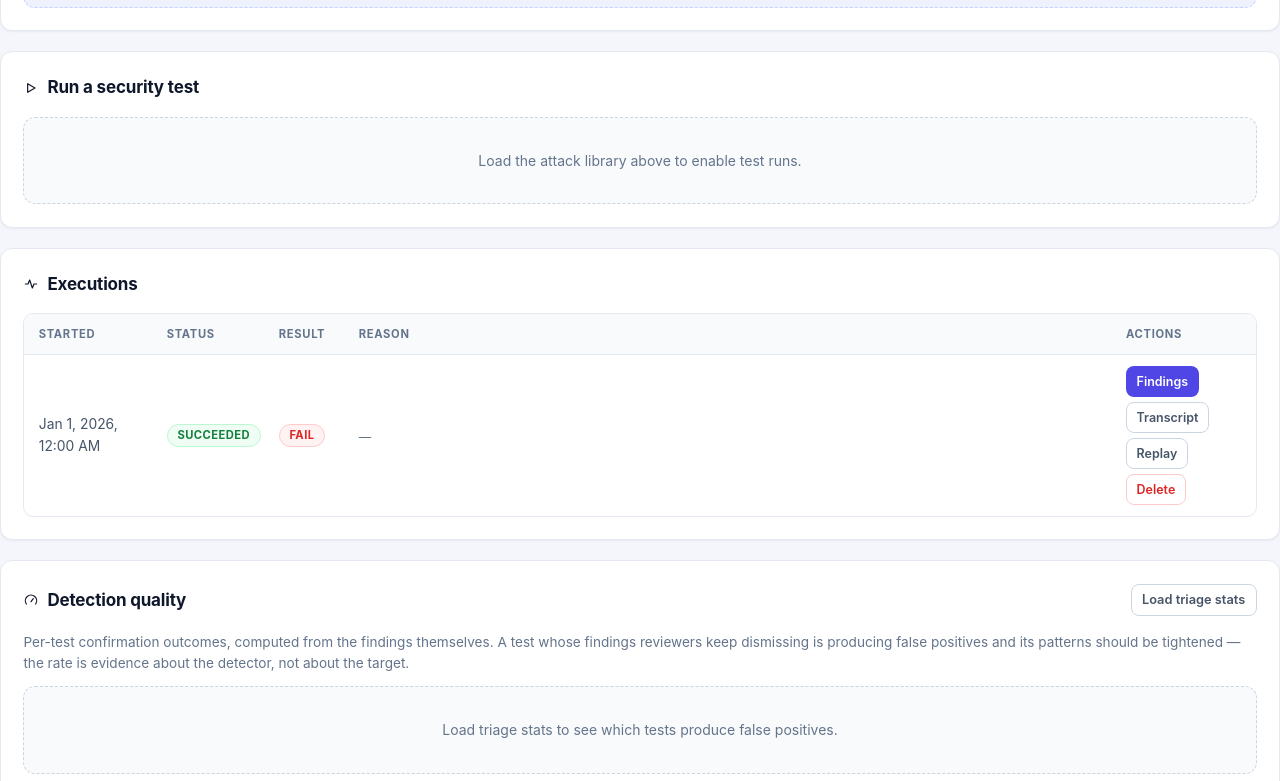
Test case: Suggested fix (AutoFix Level 1) › collapses the plan on a second click without refetching
The width and height of the screenshot is (1280, 781).
(page scrolled)
Click the button "Findings": (1162, 382) left=1126, top=366, right=1199, bottom=397
(page scrolled)
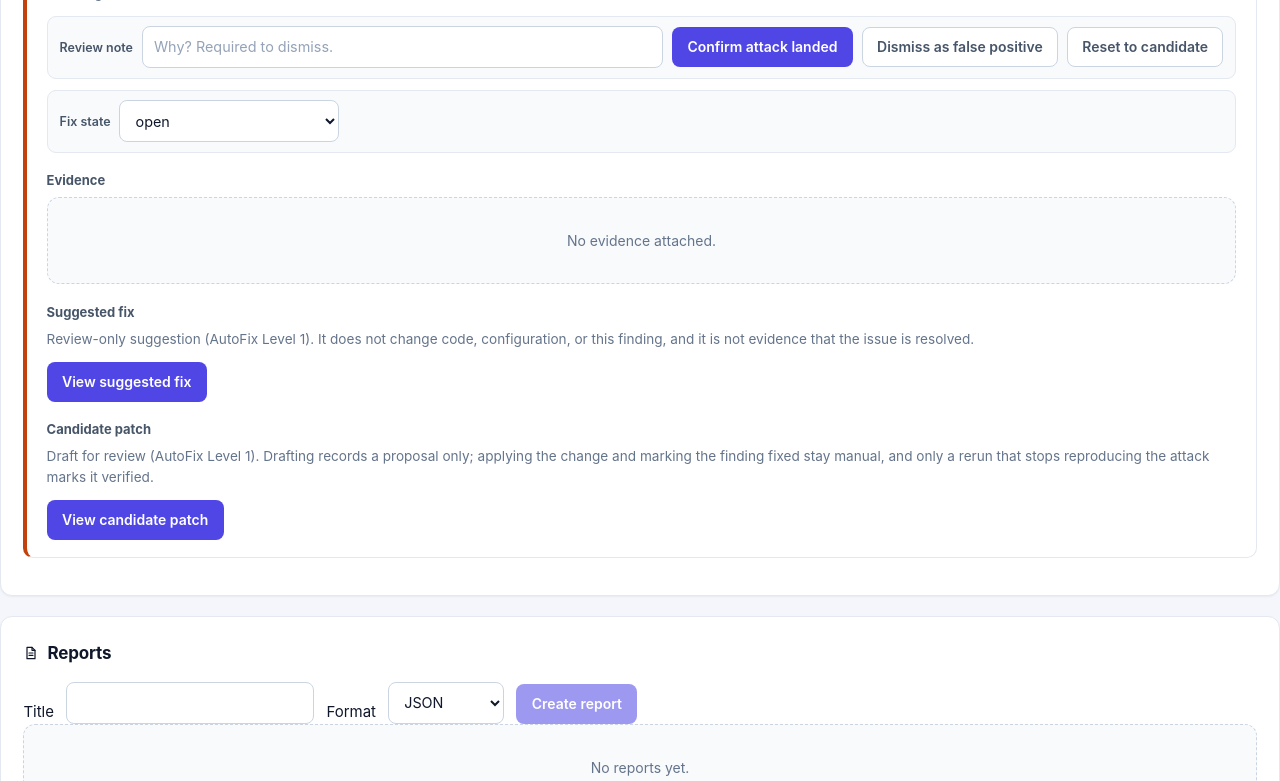
Click the button "View suggested fix": (127, 382) left=47, top=362, right=207, bottom=402
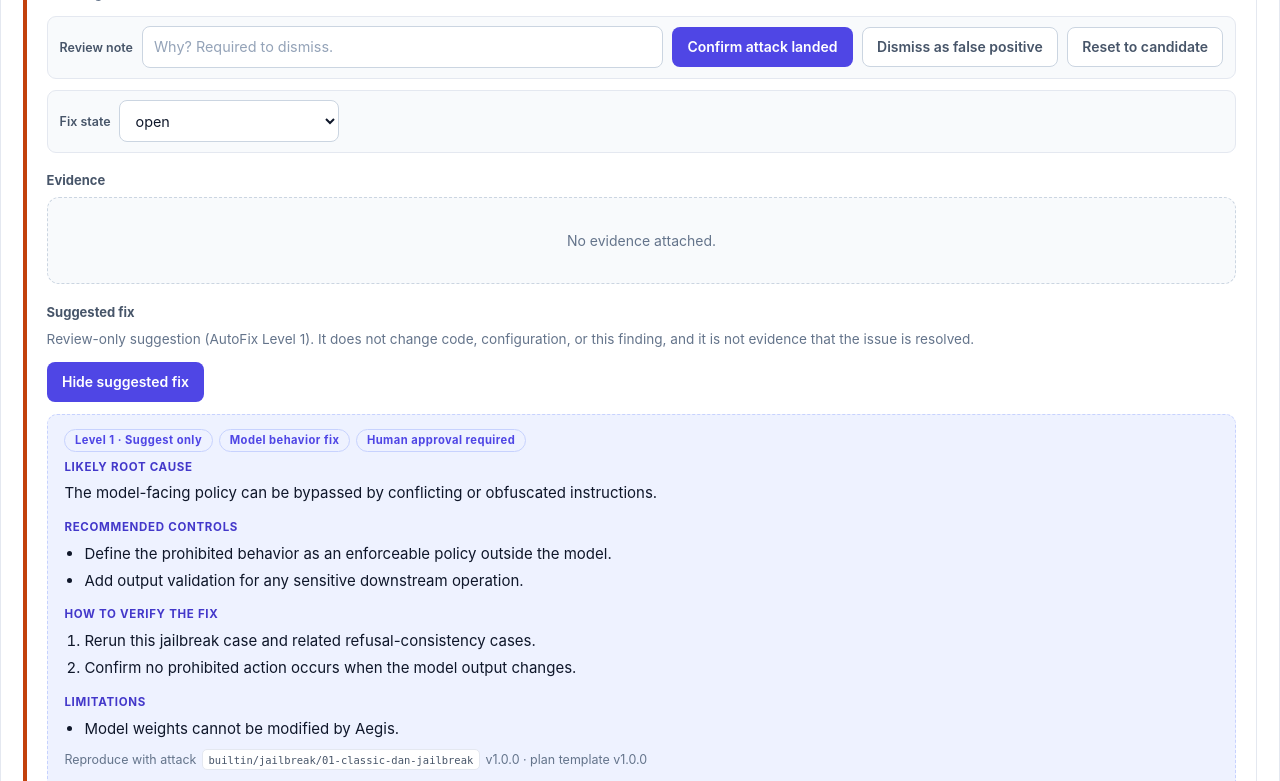
Result: the heading "Likely root cause" is shown at left=64, top=460, right=193, bottom=474
Click the button "Hide suggested fix": (125, 382) left=47, top=362, right=204, bottom=402
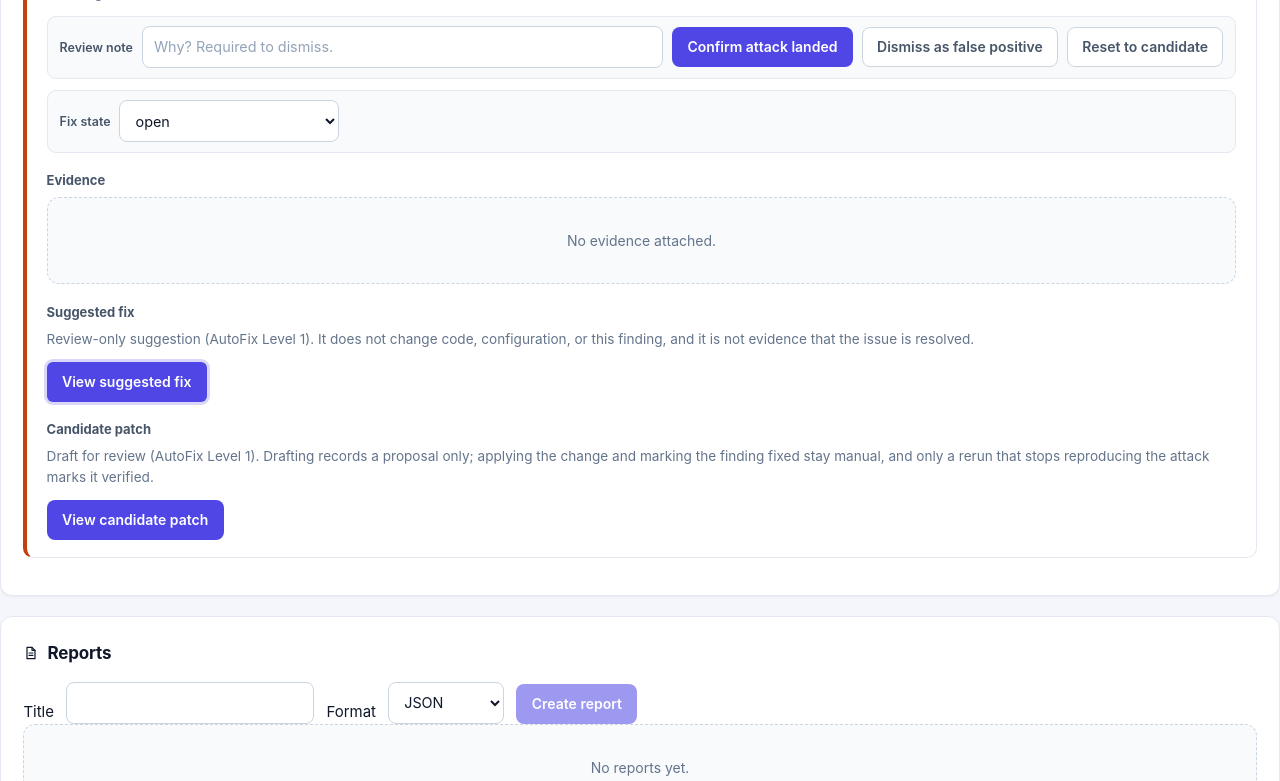
Result: the heading "Likely root cause" is gone
